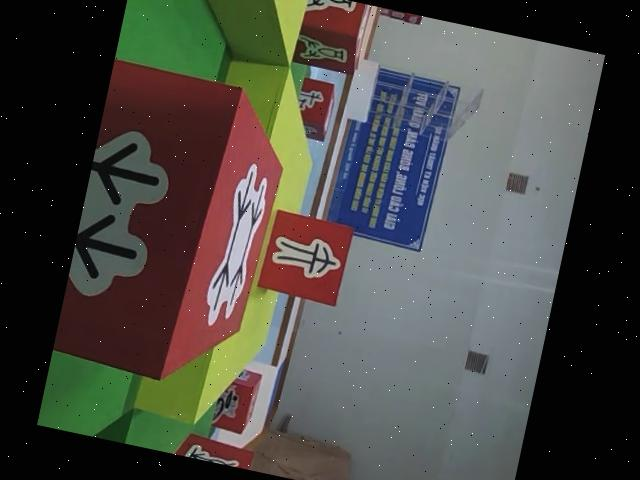R1: (201, 361, 264, 440)
R2 Fake: (253, 207, 357, 309)
R2 Real: (49, 56, 301, 401), (282, 0, 370, 77), (158, 428, 259, 472), (288, 76, 341, 146)
